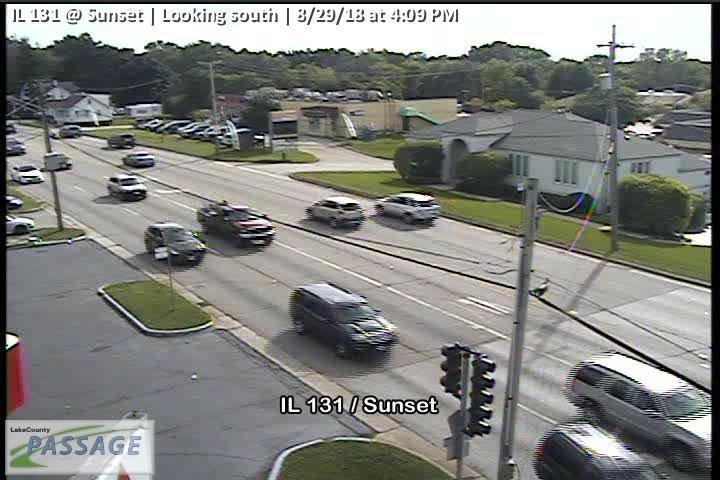SUV: (562, 353, 712, 474), (290, 281, 400, 356)
Sedan: (141, 220, 206, 264), (305, 194, 367, 228), (374, 192, 439, 223), (104, 173, 148, 201), (10, 163, 44, 184), (121, 150, 158, 167), (107, 133, 137, 150)
Truck: (199, 199, 275, 248)
